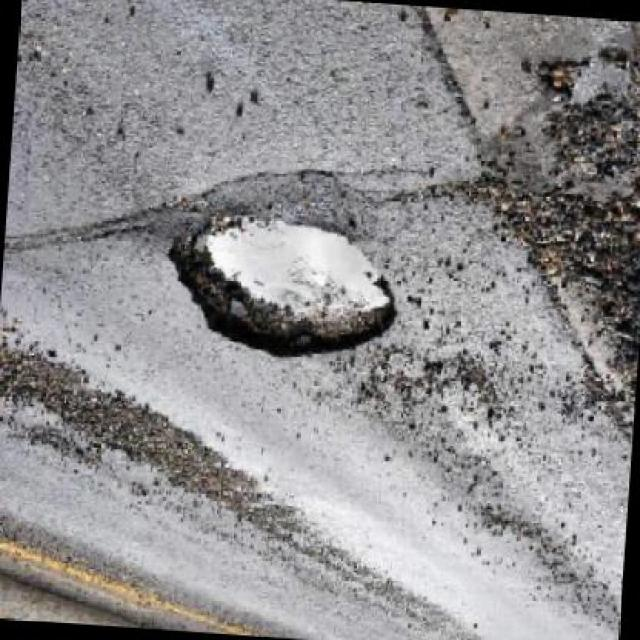pothole1: (156, 211, 407, 372)
